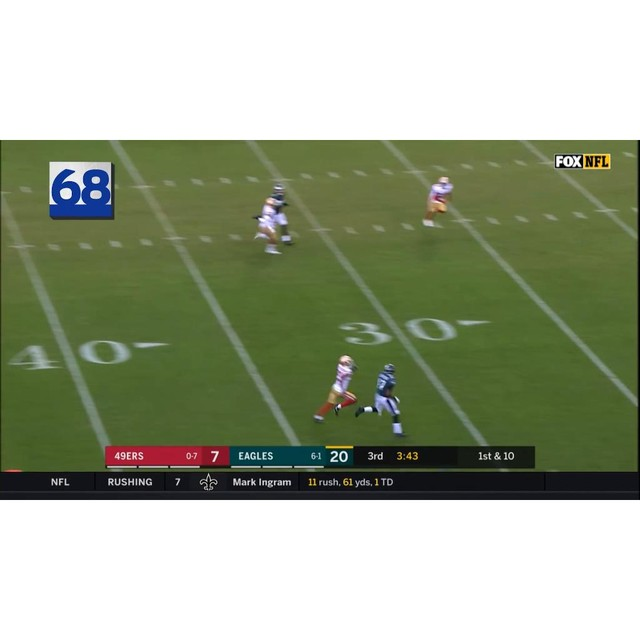american-football-player: (357, 363, 408, 438), (312, 354, 359, 423), (251, 199, 284, 255), (268, 184, 298, 245), (422, 175, 454, 228)
